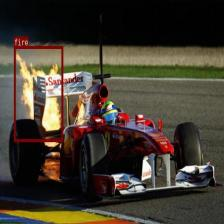fire: (14, 46, 63, 141)
